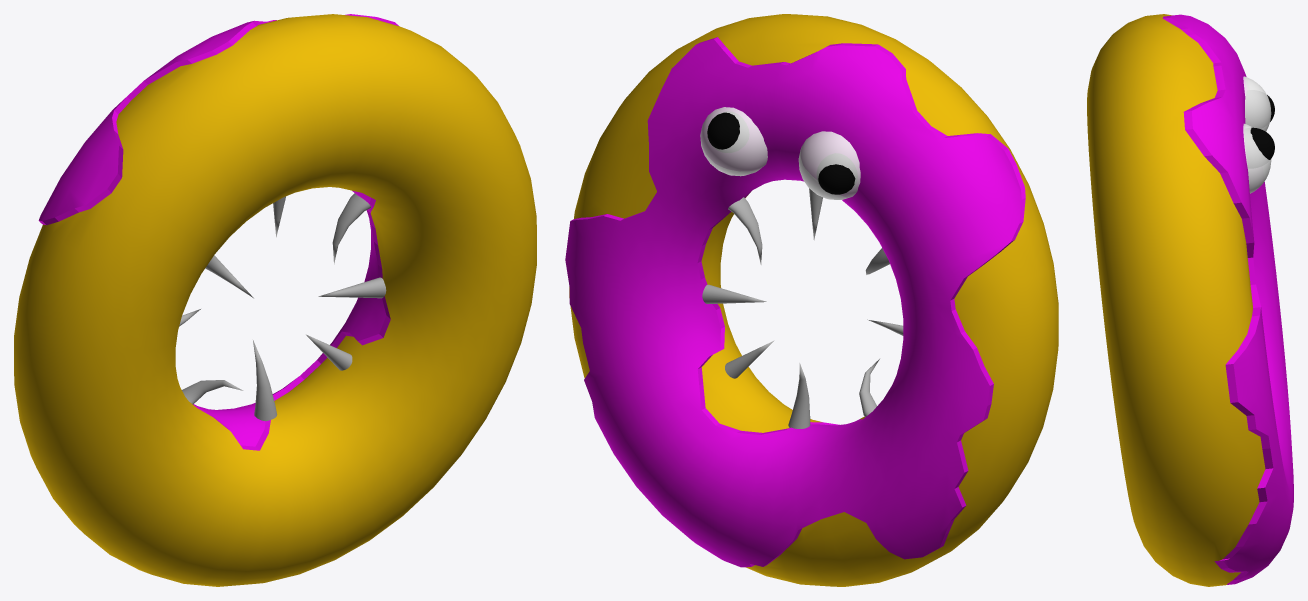
The model's file is The Donut.fbx.
The picture shows the model from 3 angles, left to right: view 1: azimuth 30°, elevation 25°; view 2: azimuth 150°, elevation 25°; view 3: azimuth 270°, elevation 25°; orthographic projection. The views are drawn at different scales.
Visible parts, largest first — view 1: polySurface19; view 2: polySurface19; view 3: polySurface19.
Boxes of the visible parts, bbox=[...] form: polySurface19: bbox=[14, 14, 536, 586]; polySurface19: bbox=[565, 14, 1058, 586]; polySurface19: bbox=[1087, 14, 1293, 586].
Bounding box in the file's own units: 9.81 × 10.63 × 3.79.
